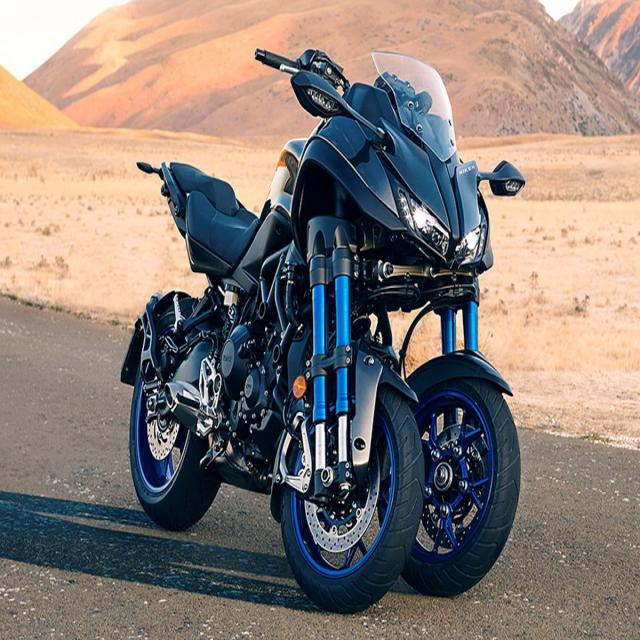Bike: (119, 50, 525, 618)
